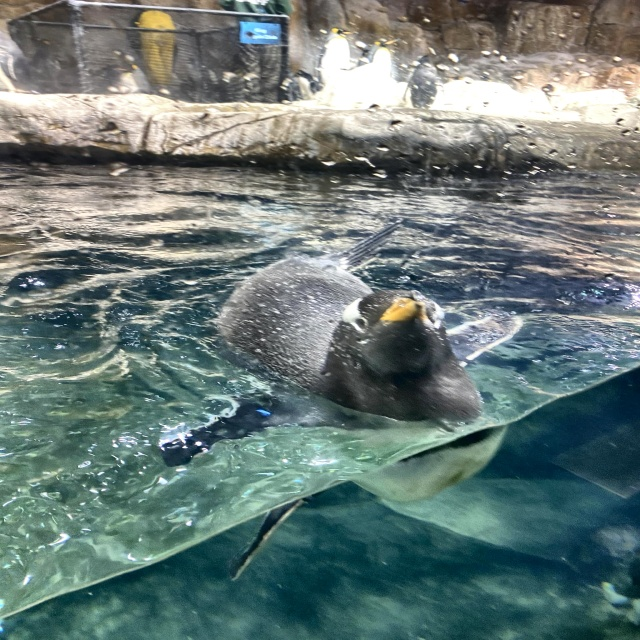penguin: (158, 216, 524, 585), (314, 26, 358, 88), (0, 30, 38, 94), (404, 53, 445, 109), (366, 39, 398, 81), (115, 60, 149, 95)
